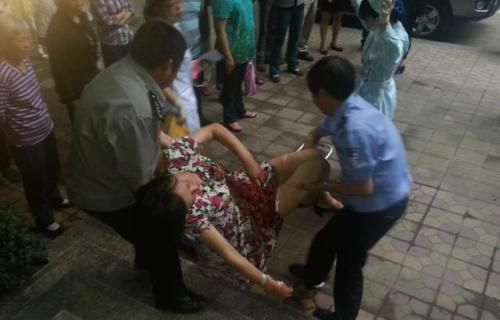10+: (1, 1, 425, 316)
down: (121, 113, 343, 305)
